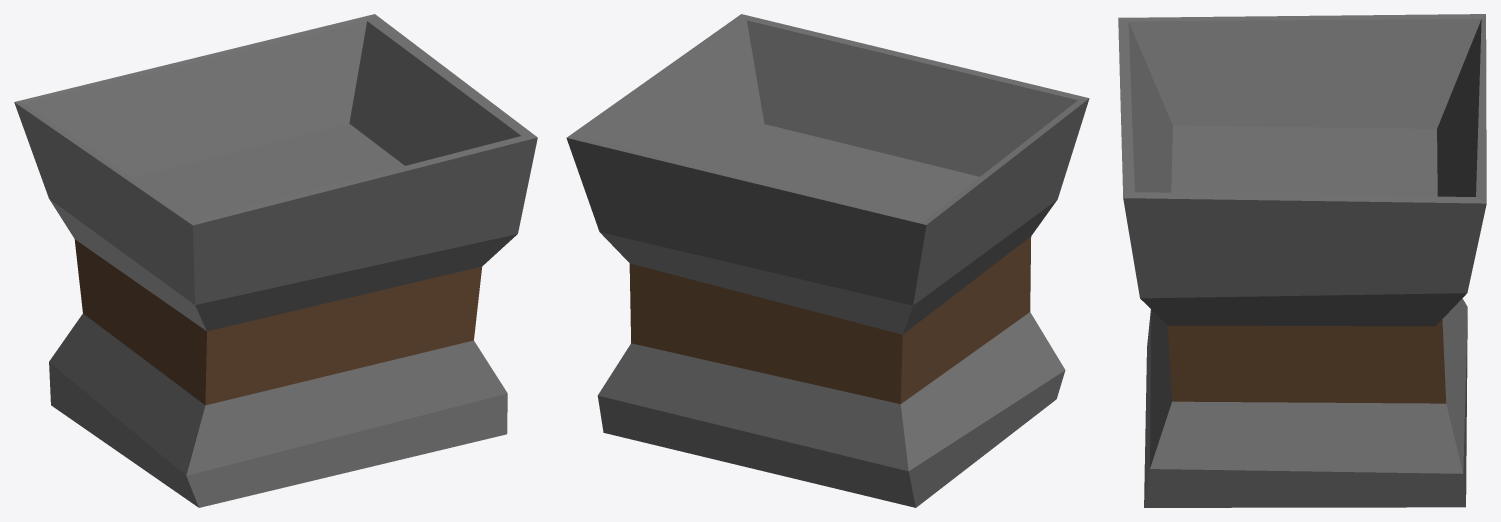
The model's file is Deposit.fbx.
3 renders of one model, left to right at view 1: azimuth 30°, elevation 25°; view 2: azimuth 150°, elevation 25°; view 3: azimuth 270°, elevation 25°, orthographic. The views are drawn at different scales.
Parts seen in each view (by area): view 1: Deposit; view 2: Deposit; view 3: Deposit.
Boxes of the visible parts, x1,y1,x2,y2 form: Deposit: (14,14,537,507); Deposit: (566,14,1089,507); Deposit: (1118,14,1486,507).
Bounding box in the file's own units: 489 × 403 × 390.
